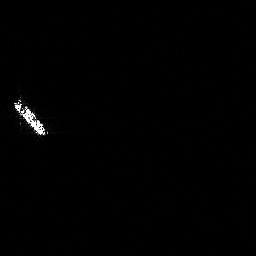ship: (10, 93, 52, 139)
